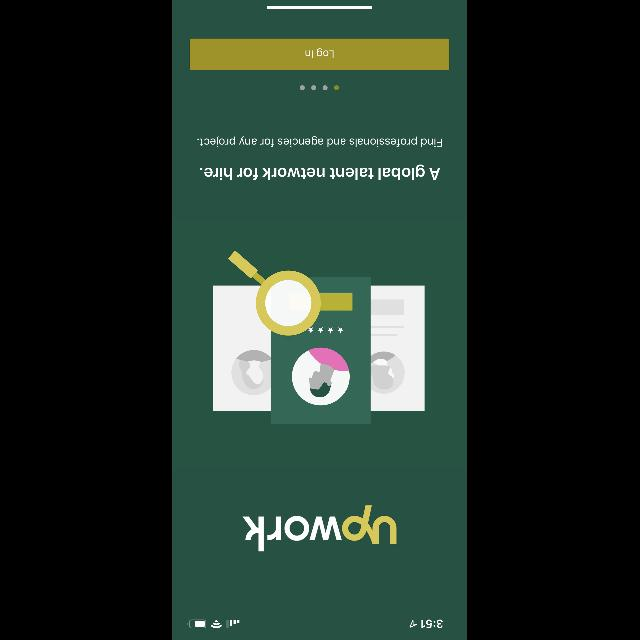image: (213, 251, 425, 425), (243, 505, 397, 551)
pageindicator: (300, 86, 340, 90)
text: (201, 165, 441, 181), (198, 136, 442, 148)
textbutton: (190, 39, 450, 70)
uppertaskbar: (188, 620, 444, 628)
